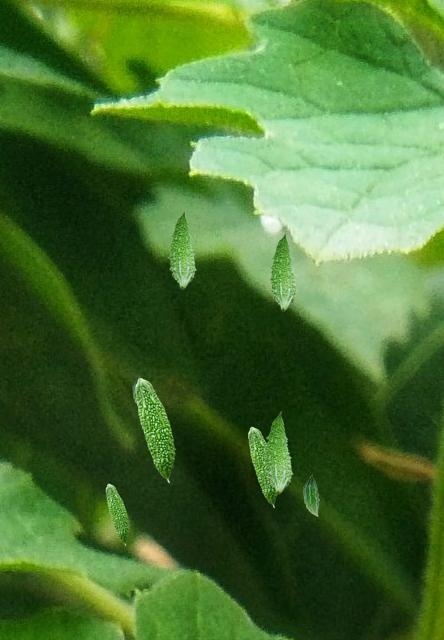ampalaya: (134, 377, 176, 483), (262, 411, 293, 494), (247, 426, 277, 508), (167, 209, 196, 289), (268, 231, 297, 311), (105, 483, 130, 546), (302, 474, 320, 517), (132, 375, 140, 404)
